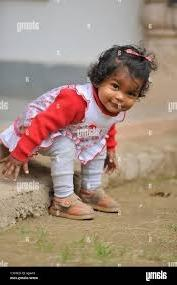Human: (4, 48, 154, 223)
